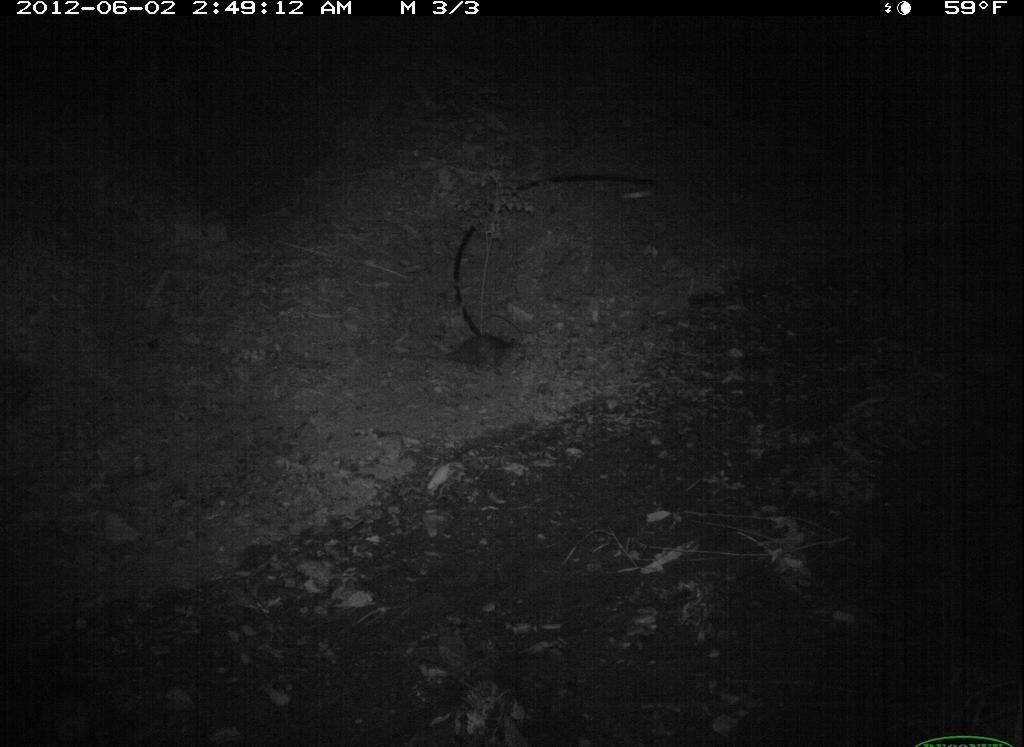opossum: (408, 304, 551, 399)
